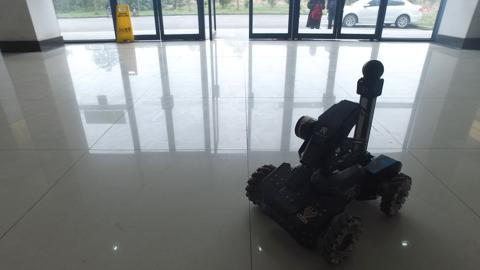car: (320, 1, 424, 29)
chariot: (244, 58, 412, 270)
